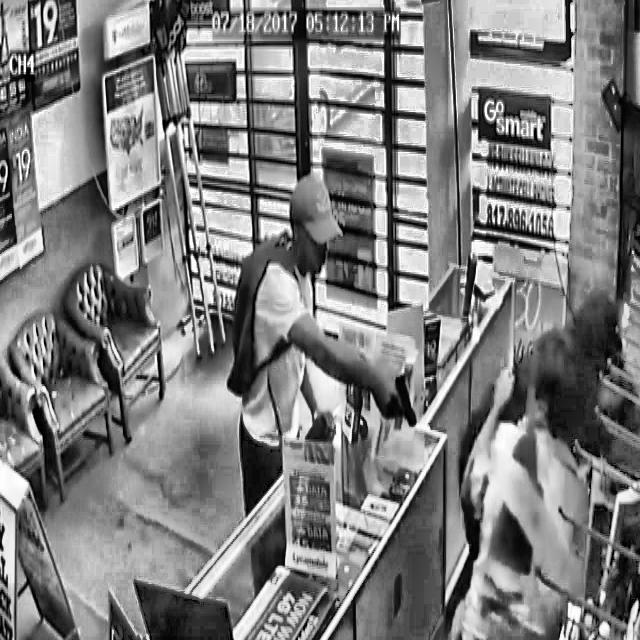robbery: (214, 157, 597, 639)
